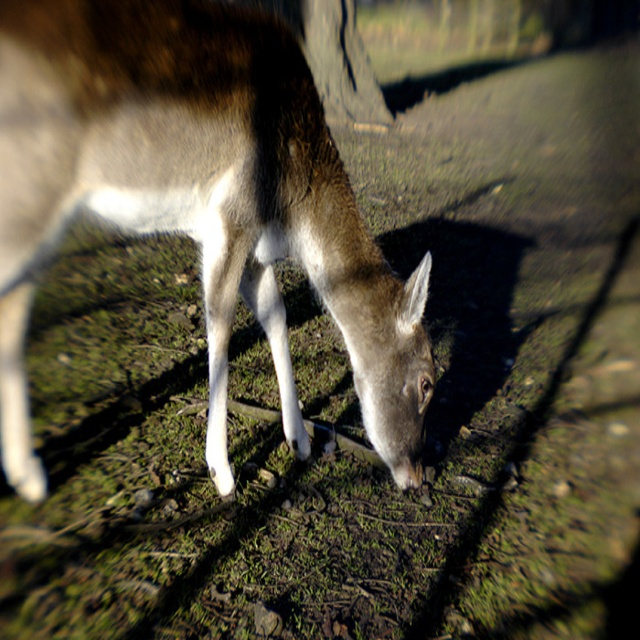Deer: (0, 0, 433, 504)
